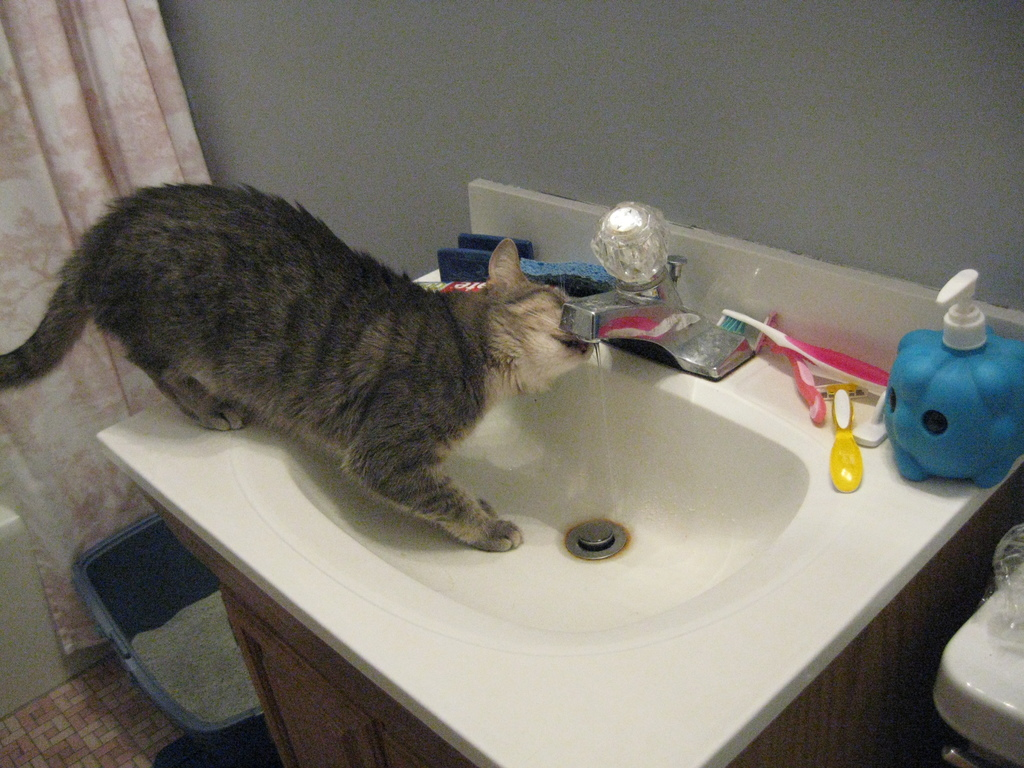tap: (558, 207, 751, 380)
